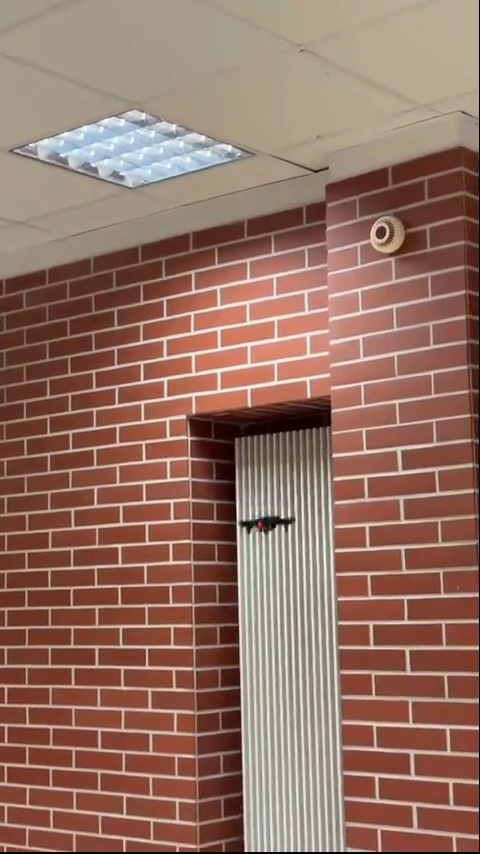drone: (239, 517, 295, 537)
